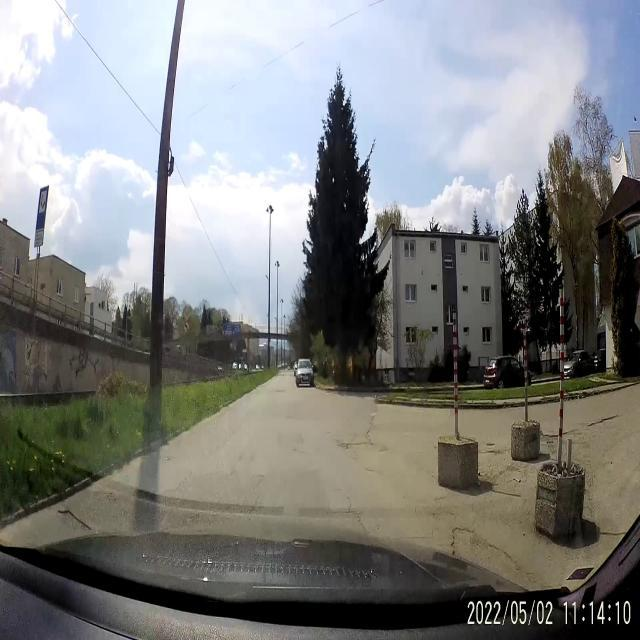Pothole: (448, 525, 538, 559), (50, 501, 94, 532), (338, 433, 380, 461), (484, 436, 502, 460)
